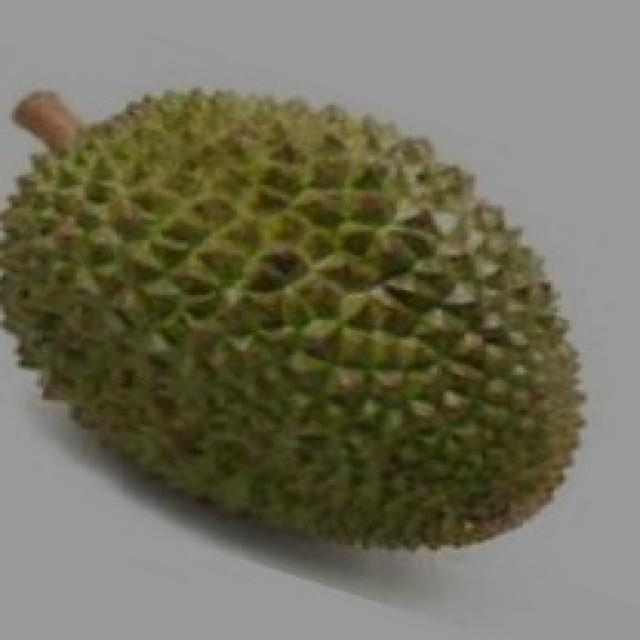fruit: (268, 175, 637, 600)
